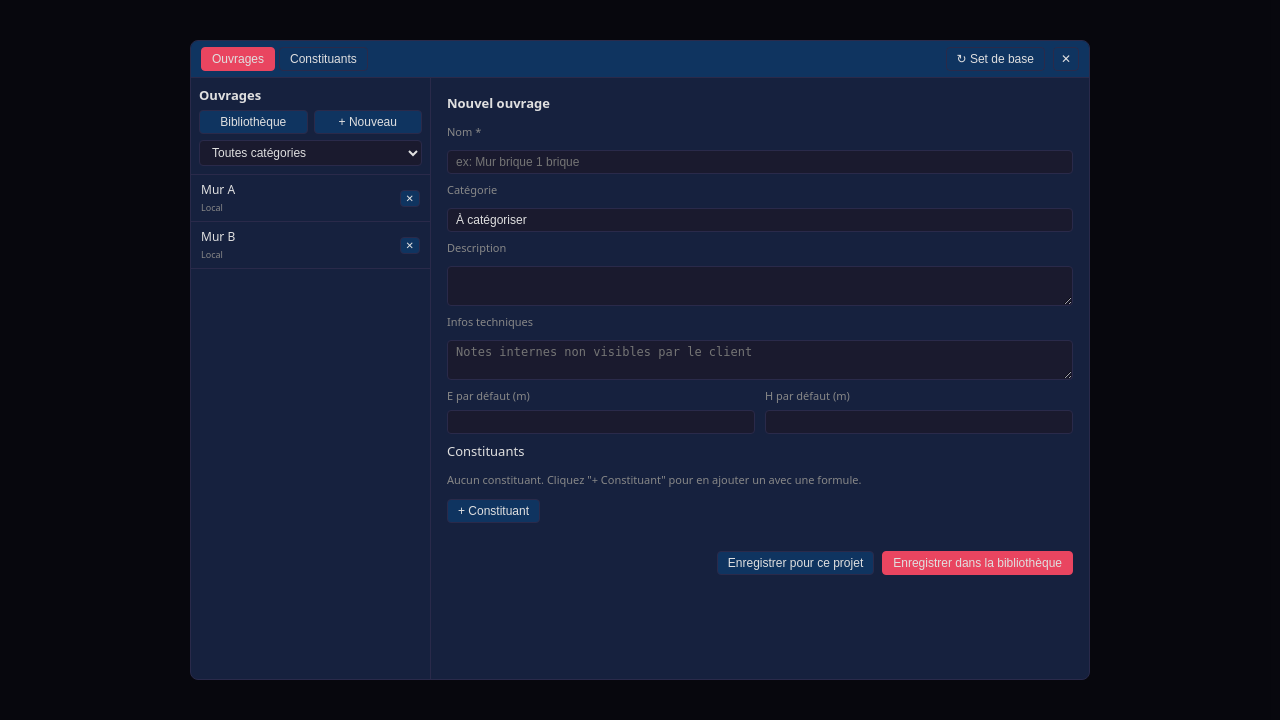
OuvrageLibraryModal › selecting another ouvrage while the current draft is dirty › Should switch to the target ouvrage once the discard is confirmed
Step 1. Click the element with class "list-item" showing "Mur A Local ✕" → (310, 198), box [191,175,430,222]
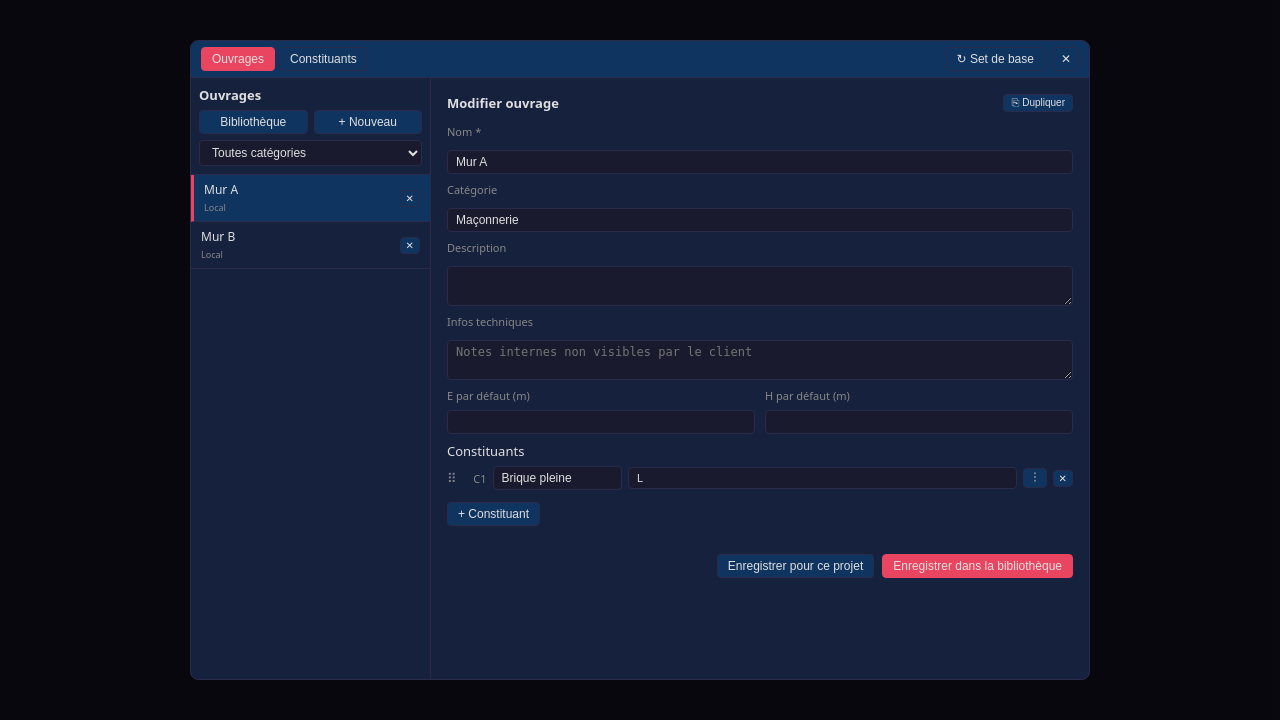
Step 2. Replace the text in the 1st field with placeholder "ex: Mur brique 1 brique" with "Mur A modifié" → (760, 162), box [447,150,1073,174]
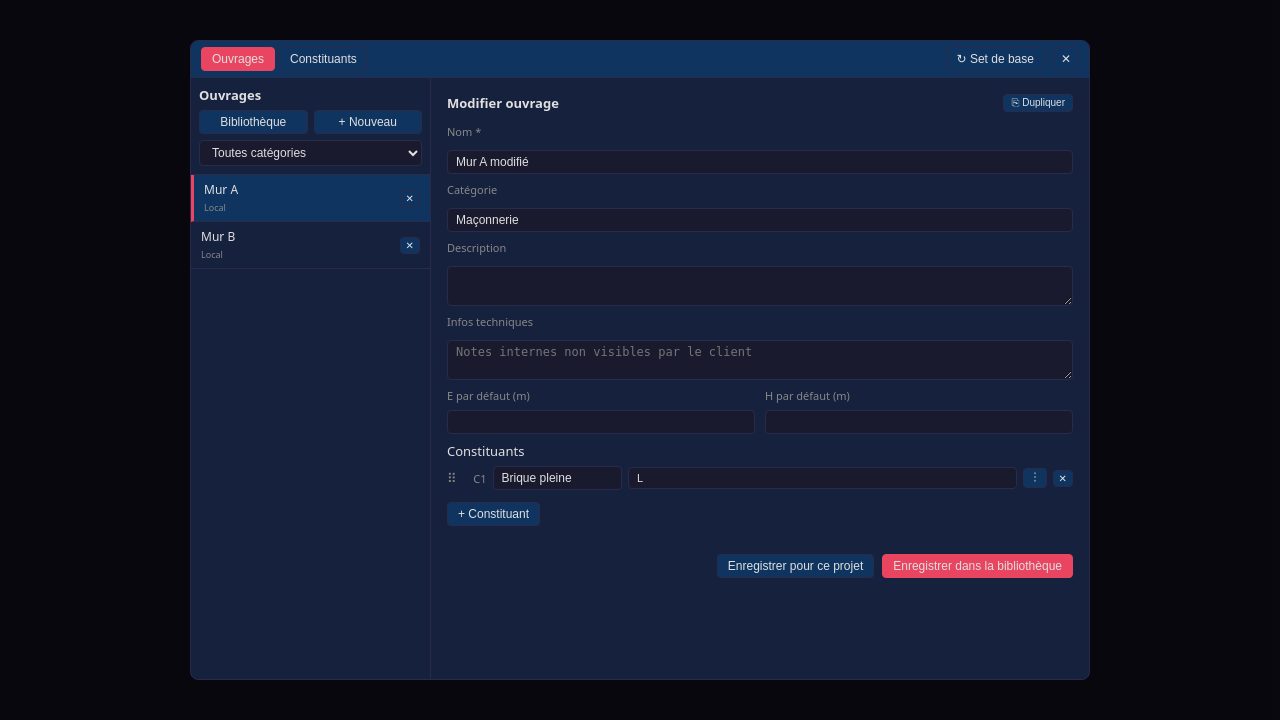
Step 3. Click the element with class "list-item" showing "Mur B Local ✕" → (310, 246), box [191,222,430,269]
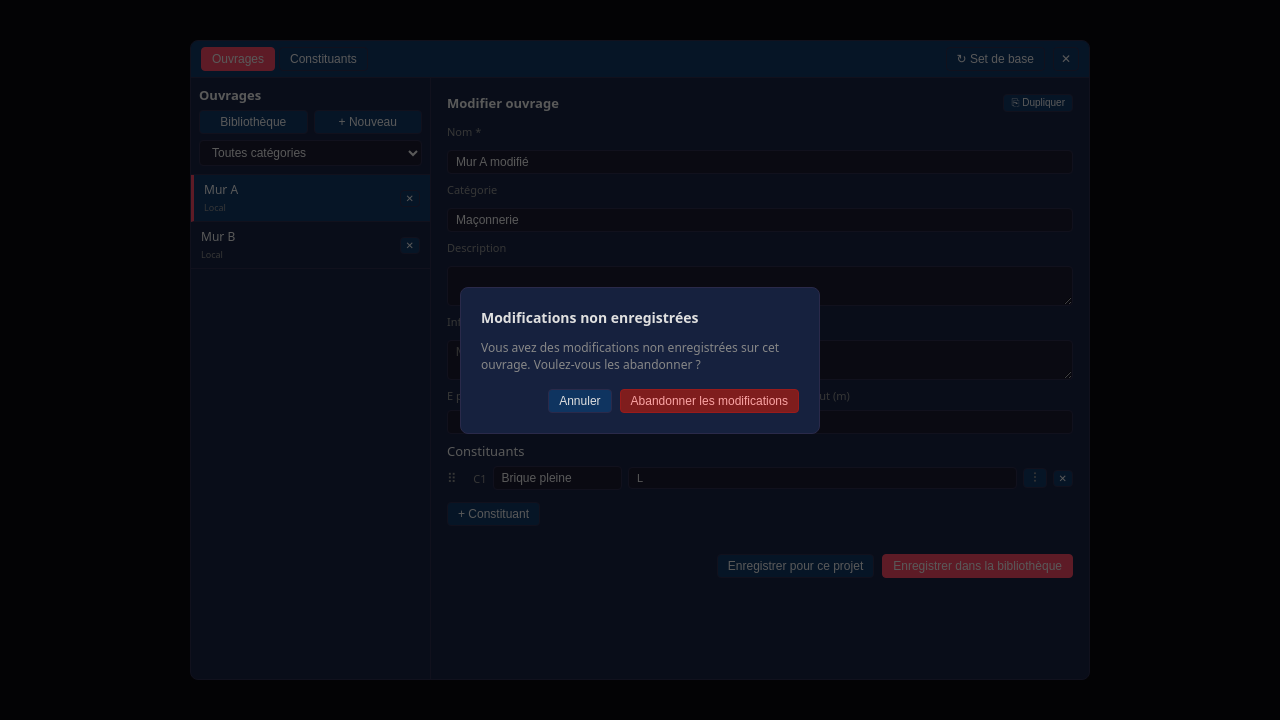
Step 4. Click the button with class "danger" → (709, 400), box [620,388,799,412]
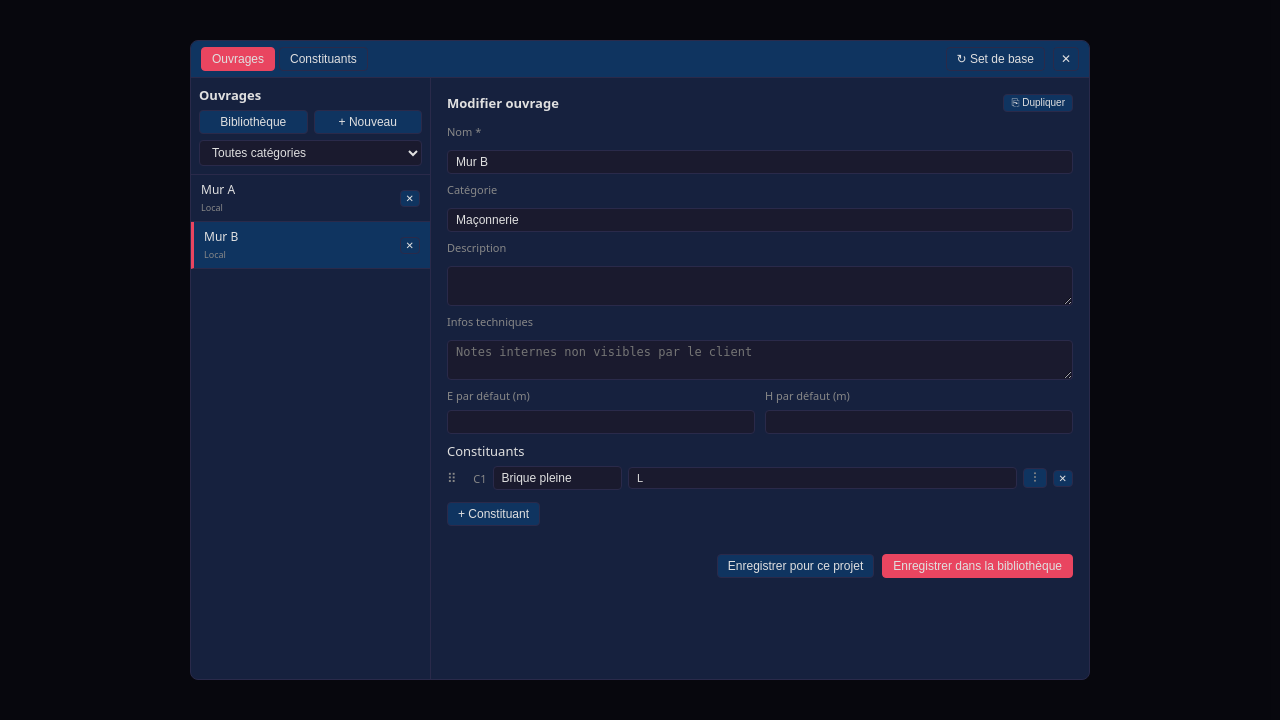
Check: the 1st field with placeholder "ex: Mur brique 1 brique" holds "Mur B", box [447,150,1073,174]
